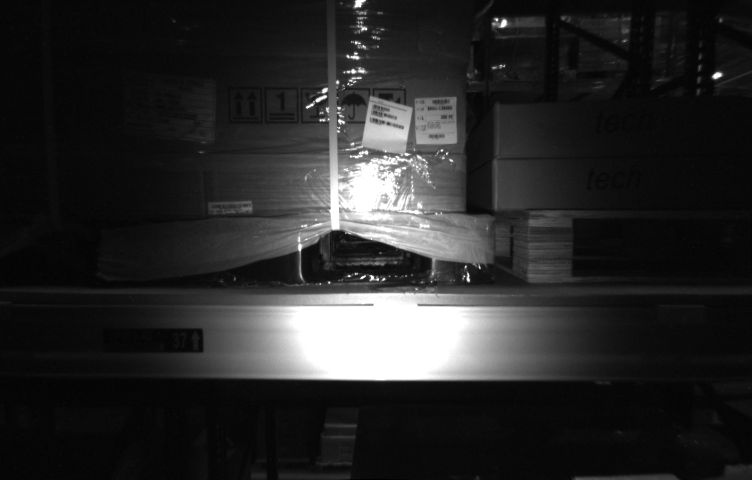True Barcode: (417, 97, 457, 145)
